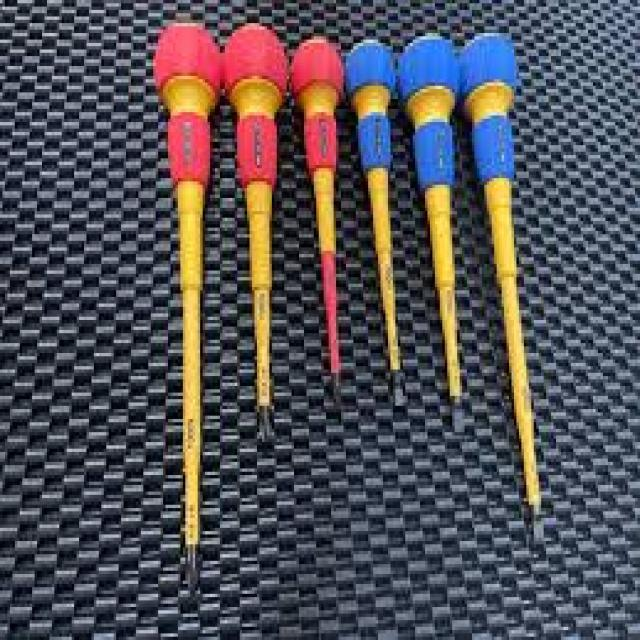screwdriver: (462, 31, 546, 552), (151, 18, 220, 596), (219, 18, 288, 447), (394, 35, 466, 438), (344, 34, 411, 414), (288, 33, 348, 409)
